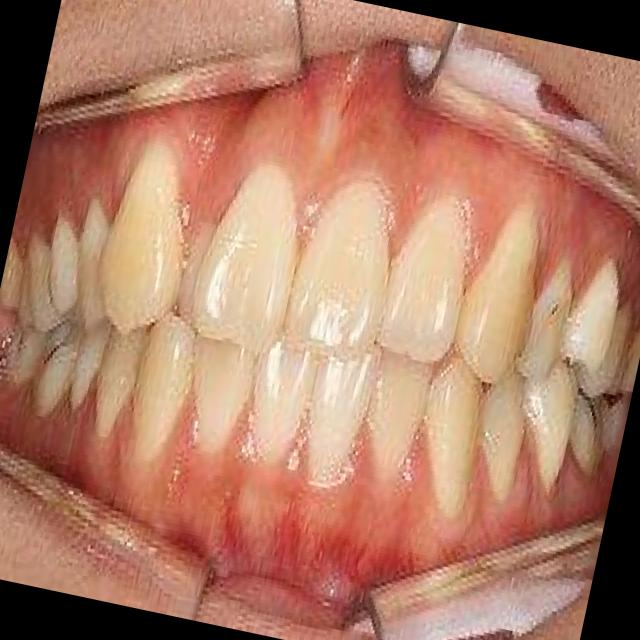Tooth: (193, 163, 297, 355), (287, 182, 390, 351), (101, 136, 186, 331), (457, 195, 540, 386), (376, 203, 469, 365), (422, 347, 485, 519), (366, 344, 435, 480), (308, 347, 378, 480), (253, 329, 321, 464), (132, 315, 194, 461), (519, 362, 577, 496), (567, 249, 620, 386), (192, 339, 254, 453), (31, 296, 86, 414), (517, 264, 573, 374), (94, 325, 149, 437), (17, 222, 69, 332), (483, 374, 525, 504), (576, 304, 631, 394), (76, 195, 109, 328), (68, 319, 109, 415), (584, 392, 629, 473), (47, 216, 81, 312), (3, 328, 47, 389), (569, 398, 595, 470)
